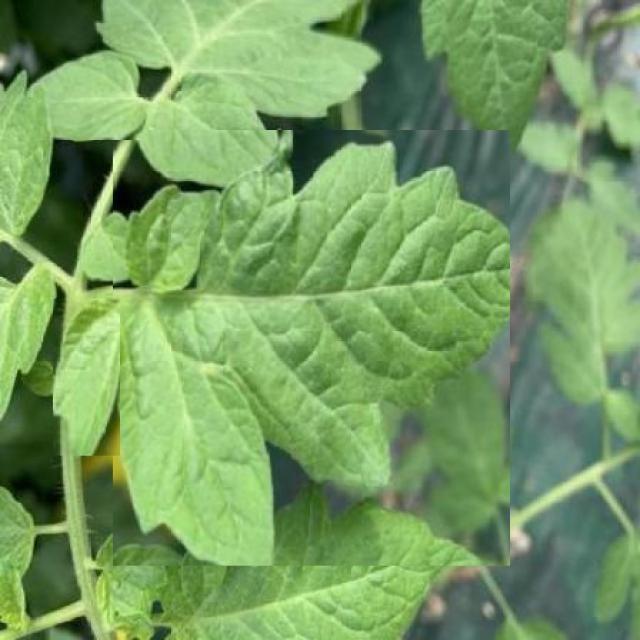Healthy: (113, 130, 510, 566), (25, 52, 146, 140), (53, 298, 120, 456)
